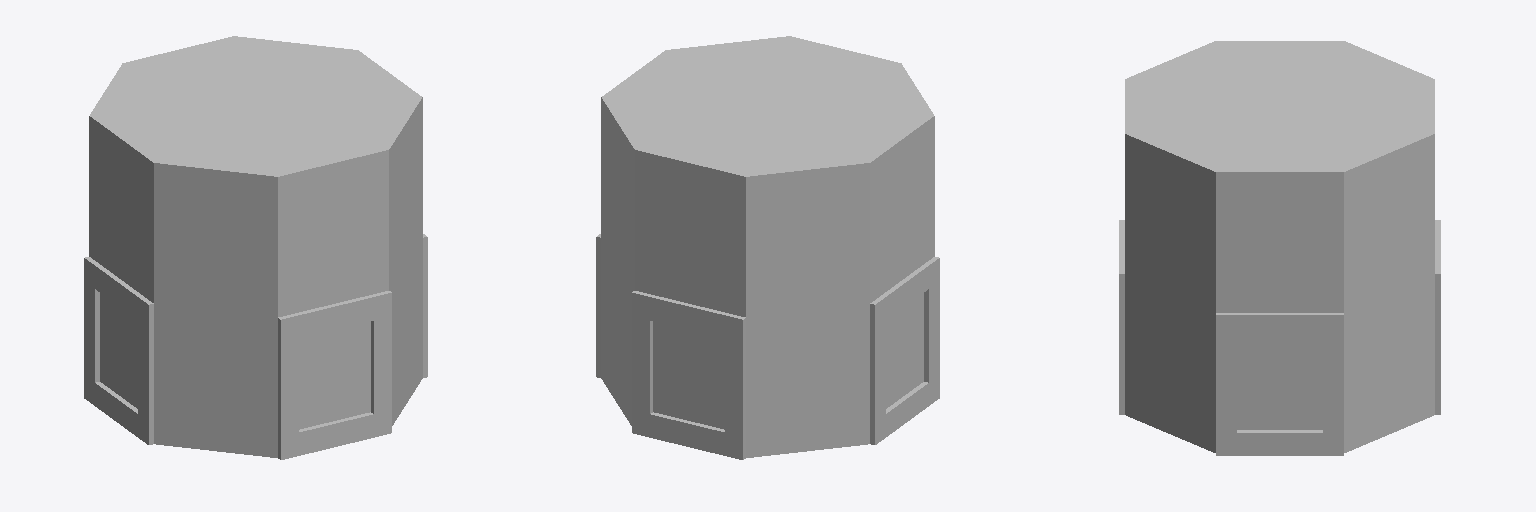
Rendered from modelContainer.obj.
The picture shows the model from 3 angles: view 1: azimuth 30°, elevation 25°; view 2: azimuth 150°, elevation 25°; view 3: azimuth 270°, elevation 25°; orthographic projection.
Parts seen in each view (by area): view 1: Container.001_Container.002, Container; view 2: Container.001_Container.002, Container; view 3: Container.001_Container.002, Container.
Boxes of the visible parts, x1=… form: Container.001_Container.002: x1=89, y1=36, x2=422, y2=317; Container: x1=84, y1=234, x2=427, y2=459; Container.001_Container.002: x1=601, y1=36, x2=934, y2=317; Container: x1=596, y1=234, x2=939, y2=459; Container.001_Container.002: x1=1125, y1=41, x2=1434, y2=312; Container: x1=1119, y1=220, x2=1440, y2=455.
Size of the model in its own units: 0.5188 by 0.5312 by 0.5188.